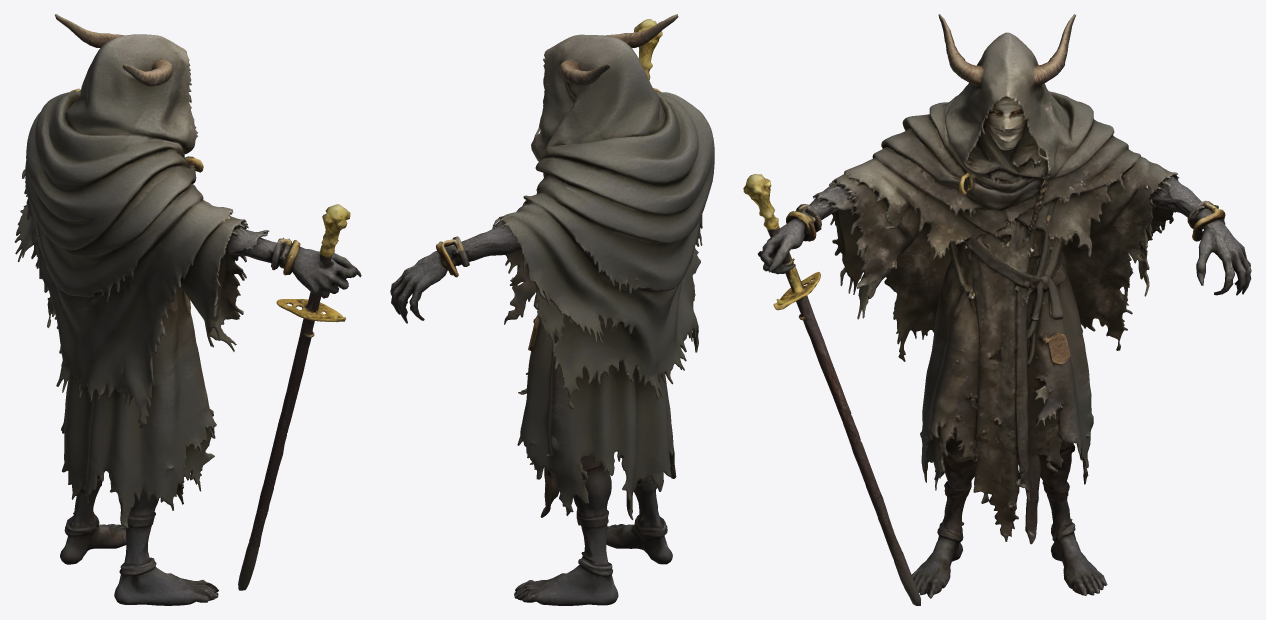
The model's file is margit.glb.
The picture shows the model from 3 angles, left to right: view 1: azimuth 30°, elevation 25°; view 2: azimuth 150°, elevation 25°; view 3: azimuth 270°, elevation 25°; orthographic projection.
Parts seen in each view (by area): view 1: tripo_node_823d79ea-9904-4be5-9164-85d9c503078b; view 2: tripo_node_823d79ea-9904-4be5-9164-85d9c503078b; view 3: tripo_node_823d79ea-9904-4be5-9164-85d9c503078b.
Part boxes in pixels (x1,y1,x2,y2): tripo_node_823d79ea-9904-4be5-9164-85d9c503078b: (14, 14, 361, 605); tripo_node_823d79ea-9904-4be5-9164-85d9c503078b: (390, 14, 714, 605); tripo_node_823d79ea-9904-4be5-9164-85d9c503078b: (743, 14, 1251, 605).
Size of the model in its own units: 0.3734 by 1 by 0.8485.
Materials: 1 (1 with a texture image).
